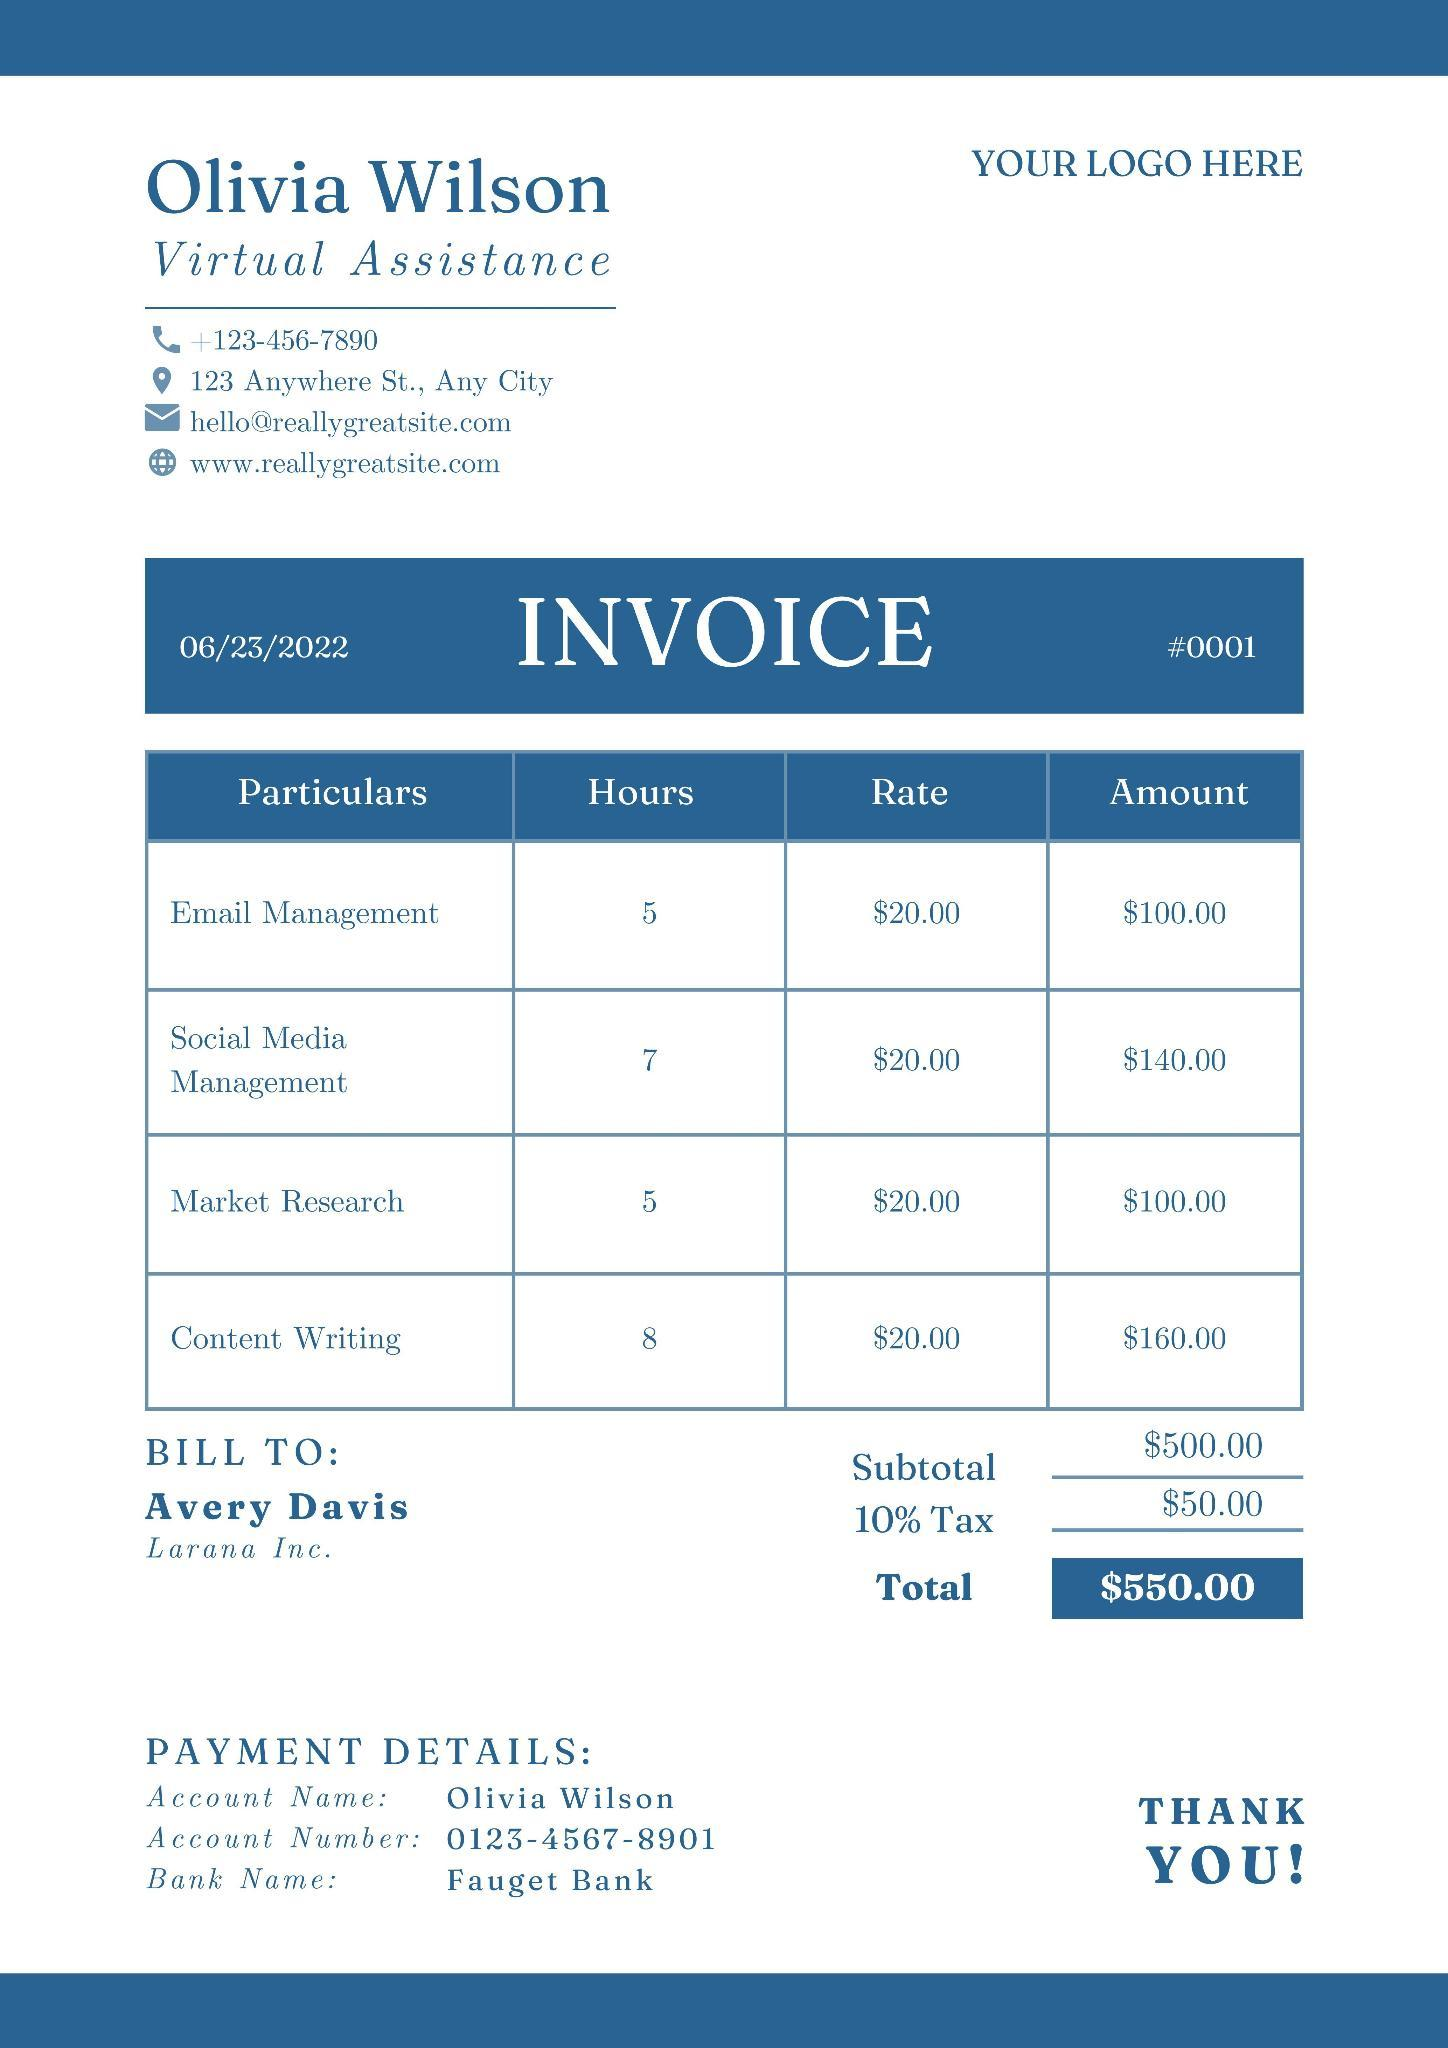ROI: (143, 754, 1307, 1404), (135, 1717, 724, 1937), (831, 1431, 1357, 1626), (135, 306, 572, 486), (129, 152, 635, 277), (138, 1431, 436, 1595), (516, 589, 948, 672), (968, 118, 1326, 201), (1139, 1783, 1343, 1912), (161, 606, 393, 685), (1157, 600, 1265, 672)
